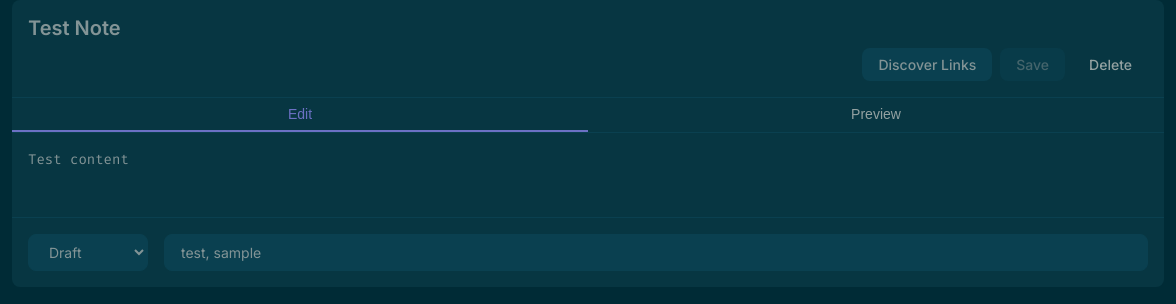
NoteEditor › Mode Switching › switches back to edit mode when edit tab is clicked
The width and height of the screenshot is (1176, 304).
Note: Switch to preview
Click the button with class "tab-btn" showing "Preview" at point(876, 115), box x1=588 y1=98 x2=1164 y2=132
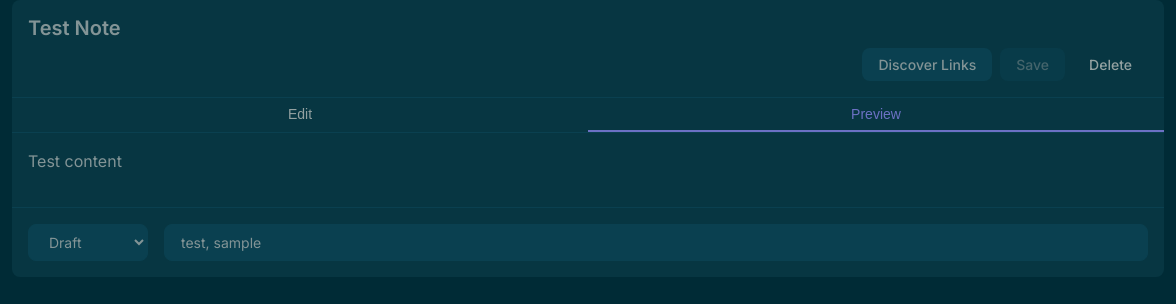
Note: Switch back to edit
Click the button with class "tab-btn" showing "Edit" at point(300, 115), box x1=12 y1=98 x2=588 y2=132
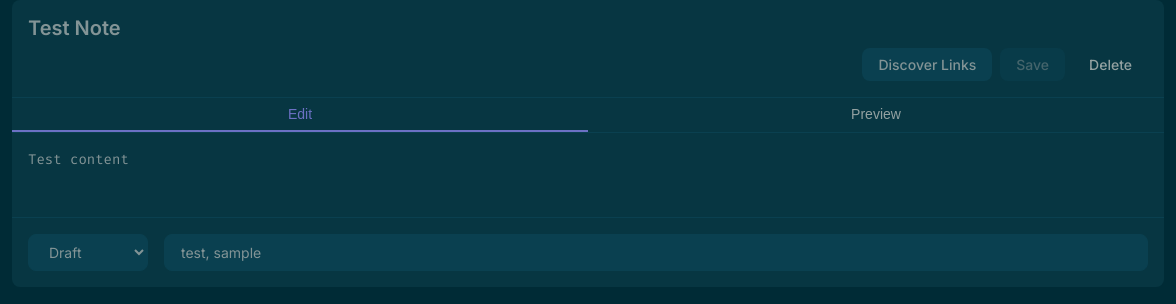
Now the text box with class "editor-textarea" is shown, box x1=28 y1=149 x2=1148 y2=194
